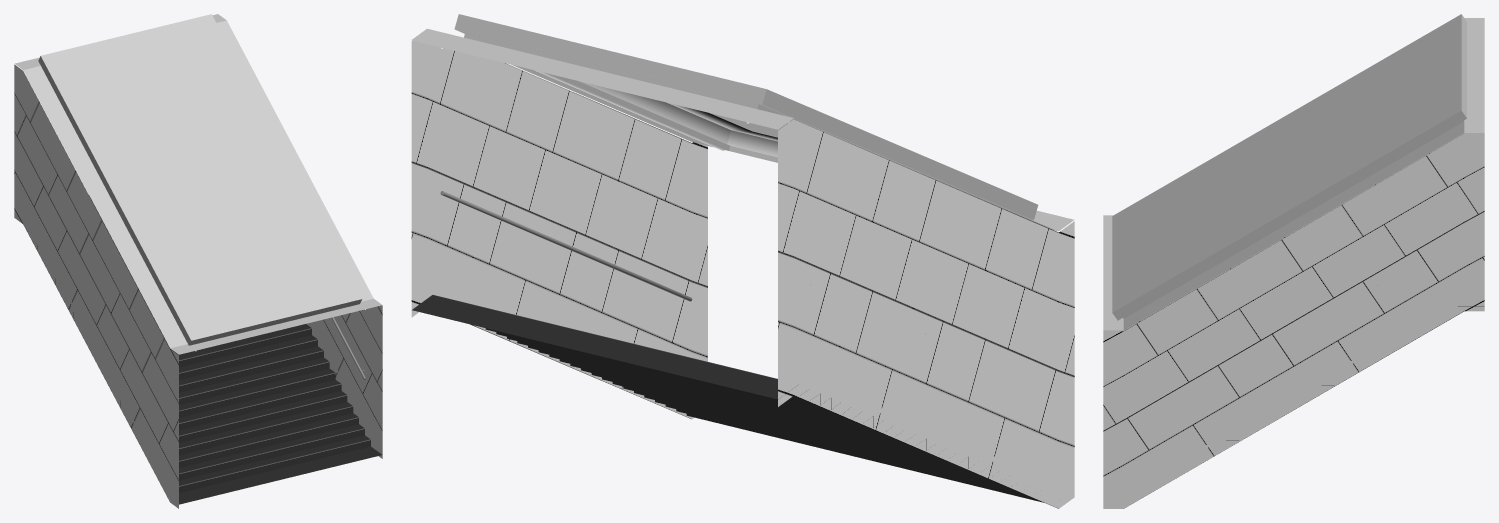
Rendered from Stairs01_500x700cm.FBX.
3 renders of one model, left to right at view 1: azimuth 30°, elevation 25°; view 2: azimuth 150°, elevation 25°; view 3: azimuth 270°, elevation 25°, orthographic. The views are drawn at different scales.
Visible parts, largest first — view 1: Ceiling, Walls, Stairs; view 2: Walls, Stairs, Ceiling, Backlight; view 3: Walls, Ceiling.
Part boxes in pixels (x1,y1,x2,y2): Ceiling: (15,14,382,354); Walls: (14,64,382,508); Stairs: (37,195,381,504); Walls: (411,40,1074,508); Stairs: (412,294,1043,502); Ceiling: (411,14,1074,231); Backlight: (457,30,1032,219); Walls: (1103,133,1484,508); Ceiling: (1103,14,1484,330).
Size of the model in its own units: 500 by 788 by 700.
